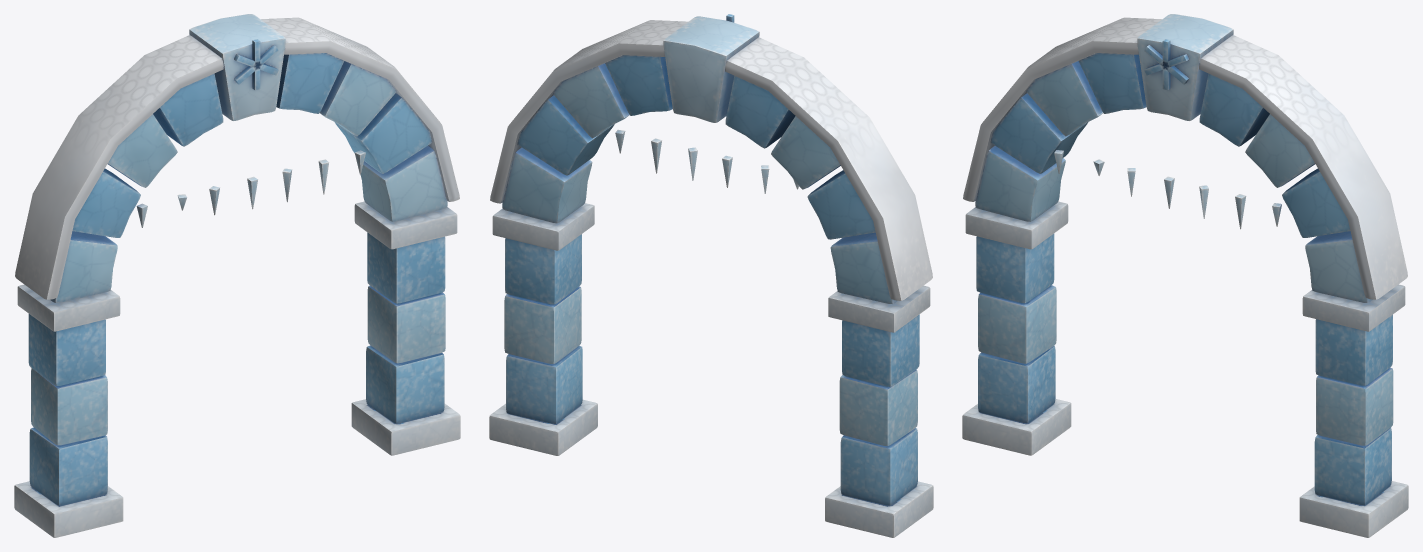
The model's file is Glace_PorteGlace.fbx.
3 renders of one model, left to right at view 1: azimuth 30°, elevation 25°; view 2: azimuth 150°, elevation 25°; view 3: azimuth 330°, elevation 25°, orthographic.
Parts seen in each view (by area): view 1: Glace_PorteGlace; view 2: Glace_PorteGlace; view 3: Glace_PorteGlace.
Boxes of the visible parts, x1,y1,x2,y2 form: Glace_PorteGlace: [14, 14, 460, 537]; Glace_PorteGlace: [489, 14, 933, 537]; Glace_PorteGlace: [962, 14, 1408, 537].
Bounding box in the file's own units: 2605 × 2690 × 440.
1 material, 1 textured.
